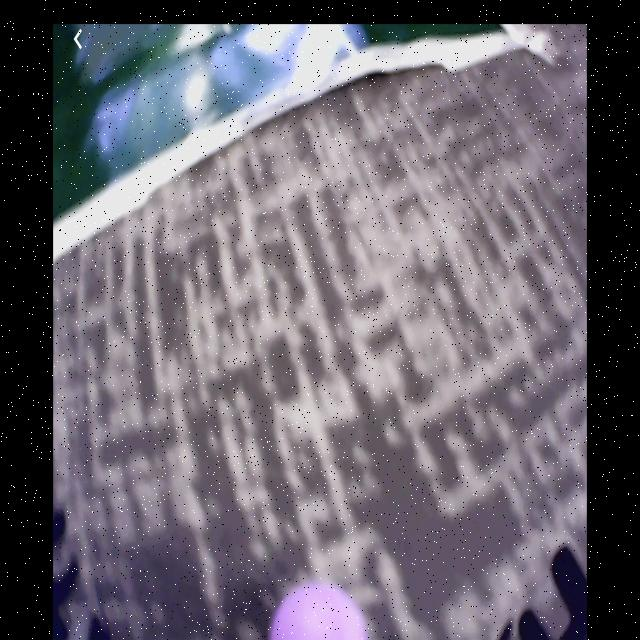ball: (269, 585, 374, 640)
